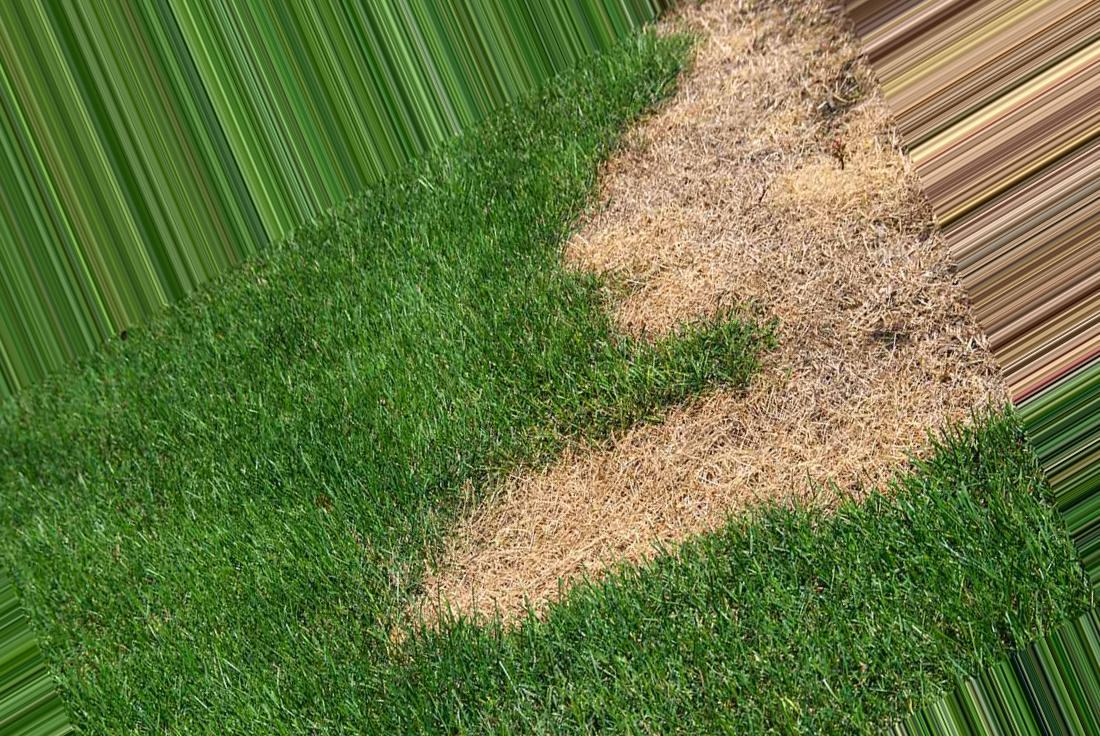patch: (677, 93, 880, 312), (803, 331, 896, 457), (489, 496, 620, 576), (623, 454, 769, 519)
